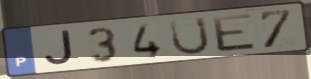3: (85, 26, 119, 64)
4: (132, 22, 164, 59)
7: (258, 8, 295, 51)
E: (209, 12, 259, 54)
J: (42, 28, 76, 67)
U: (168, 15, 212, 57)
